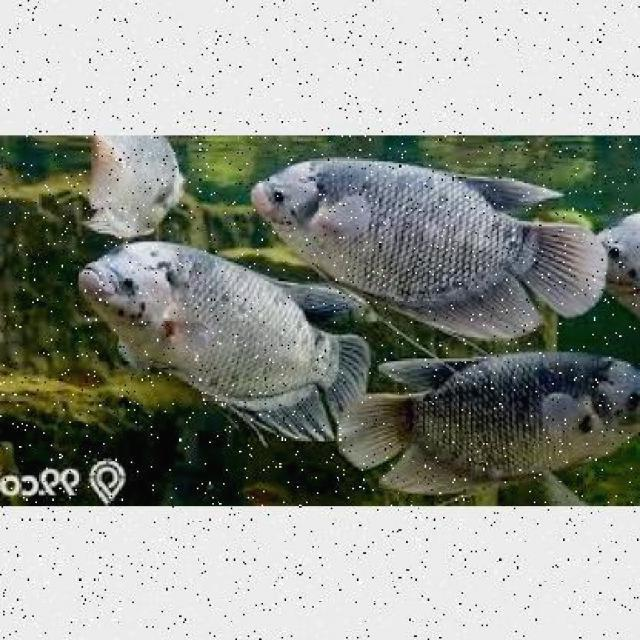gurame: (250, 153, 596, 330), (86, 240, 354, 437), (350, 352, 638, 494)
